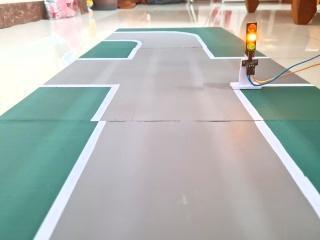yellow: (236, 16, 266, 59)
